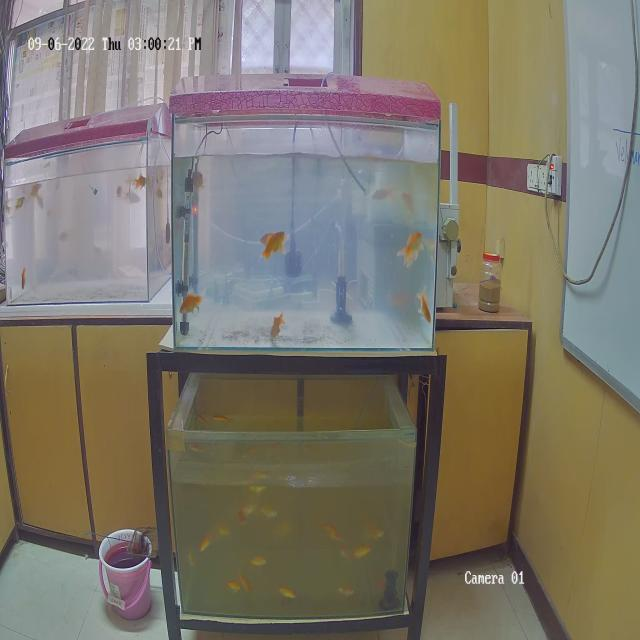goldfish: (264, 230, 292, 258)
